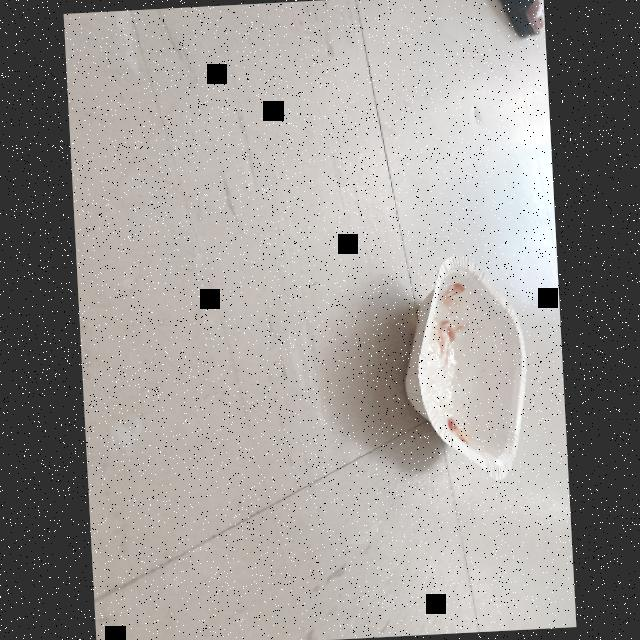cardboard_bowl: (392, 247, 544, 494)
